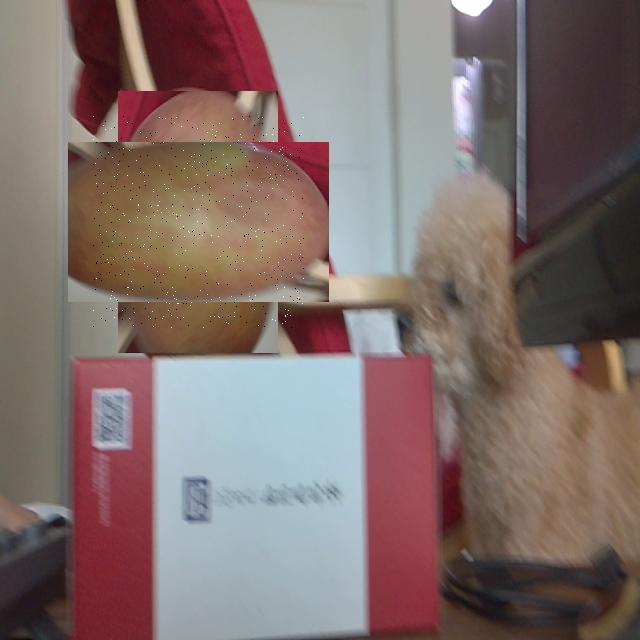apple: (93, 116, 304, 328)
